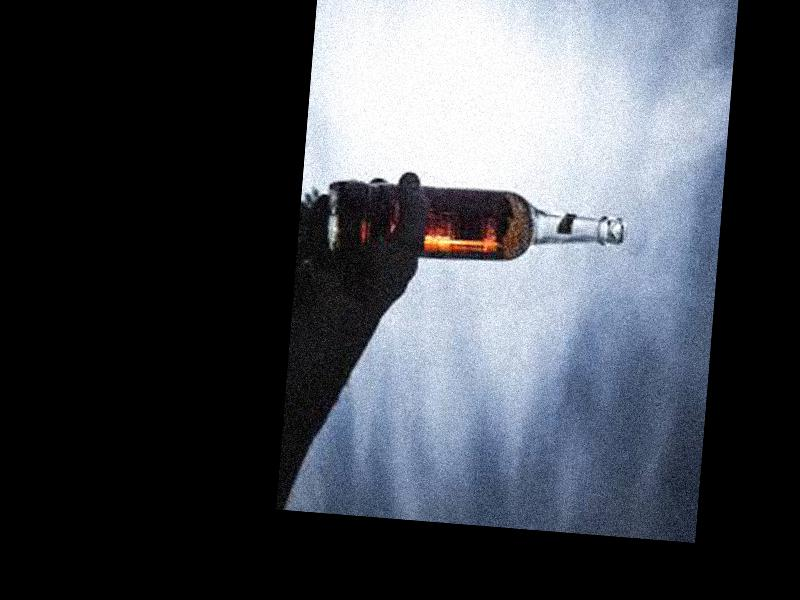Beer: (328, 181, 627, 273)
